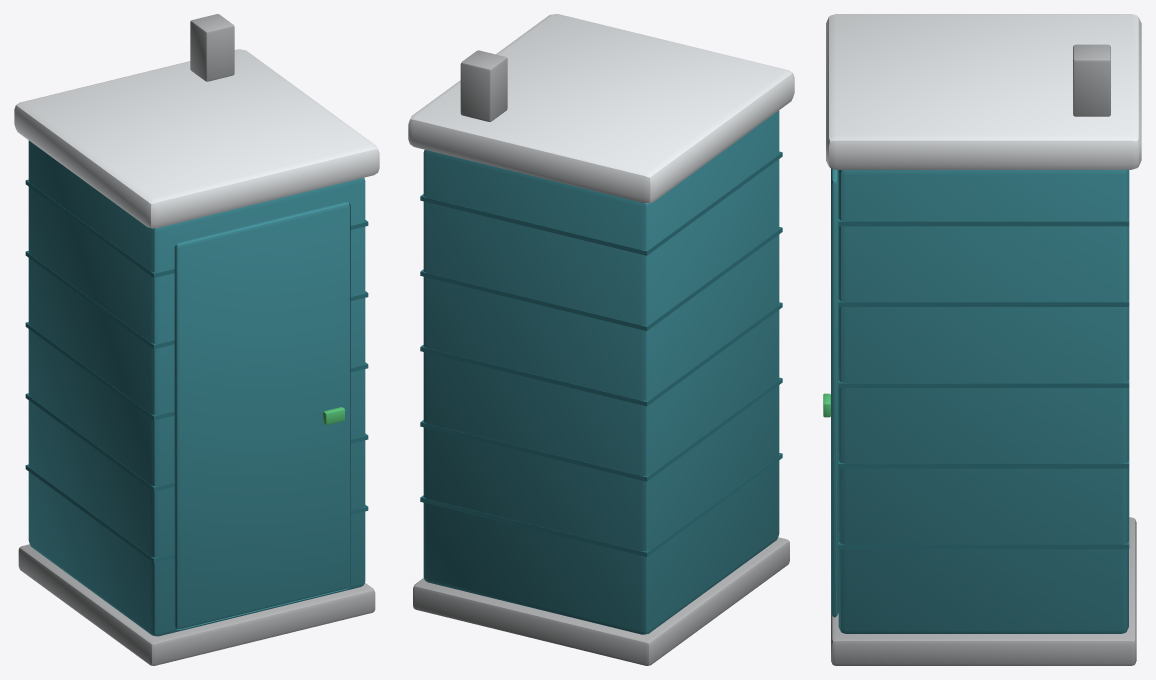
File: SER-BQM-001_lod1.glb
The picture shows the model from 3 angles, left to right: view 1: azimuth 30°, elevation 25°; view 2: azimuth 150°, elevation 25°; view 3: azimuth 270°, elevation 25°; orthographic projection. The views are drawn at different scales.
Visible parts, largest first — view 1: SER-BQM-001_porta, SER-BQM-001_corpo, SER-BQM-001_teto, SER-BQM-001_base, SER-BQM-001_respiro, SER-BQM-001_friso0, SER-BQM-001_friso1, SER-BQM-001_friso3, SER-BQM-001_friso2, SER-BQM-001_friso4; view 2: SER-BQM-001_corpo, SER-BQM-001_teto, SER-BQM-001_base, SER-BQM-001_respiro, SER-BQM-001_friso2, SER-BQM-001_friso1, SER-BQM-001_friso3, SER-BQM-001_friso0, SER-BQM-001_friso4; view 3: SER-BQM-001_corpo, SER-BQM-001_teto, SER-BQM-001_base, SER-BQM-001_porta, SER-BQM-001_respiro, SER-BQM-001_friso0, SER-BQM-001_friso4, SER-BQM-001_friso1, SER-BQM-001_friso2, SER-BQM-001_friso3.
Part boxes in pixels (x1,y1,x2,y2): SER-BQM-001_porta: (174, 202, 350, 629); SER-BQM-001_corpo: (28, 140, 365, 636); SER-BQM-001_teto: (14, 49, 379, 228); SER-BQM-001_base: (18, 544, 375, 665); SER-BQM-001_respiro: (190, 14, 234, 81); SER-BQM-001_friso0: (25, 464, 368, 562); SER-BQM-001_friso1: (25, 393, 368, 491); SER-BQM-001_friso3: (25, 251, 368, 349); SER-BQM-001_friso2: (25, 322, 368, 420); SER-BQM-001_friso4: (25, 179, 368, 277); SER-BQM-001_corpo: (423, 110, 779, 634); SER-BQM-001_teto: (408, 14, 794, 203); SER-BQM-001_base: (413, 537, 789, 665); SER-BQM-001_respiro: (460, 50, 507, 121); SER-BQM-001_friso2: (420, 302, 782, 406); SER-BQM-001_friso1: (420, 377, 782, 481); SER-BQM-001_friso3: (420, 227, 782, 330); SER-BQM-001_friso0: (420, 453, 782, 556); SER-BQM-001_friso4: (420, 151, 782, 255); SER-BQM-001_corpo: (838, 170, 1128, 633); SER-BQM-001_teto: (826, 14, 1141, 169); SER-BQM-001_base: (831, 517, 1136, 665); SER-BQM-001_porta: (831, 168, 838, 617); SER-BQM-001_respiro: (1073, 44, 1110, 116); SER-BQM-001_friso0: (838, 469, 1129, 549); SER-BQM-001_friso4: (838, 170, 1129, 226); SER-BQM-001_friso1: (838, 388, 1129, 468); SER-BQM-001_friso2: (838, 307, 1129, 387); SER-BQM-001_friso3: (838, 226, 1129, 306).
Size of the model in its own units: 1.2 by 2.55 by 1.25.
